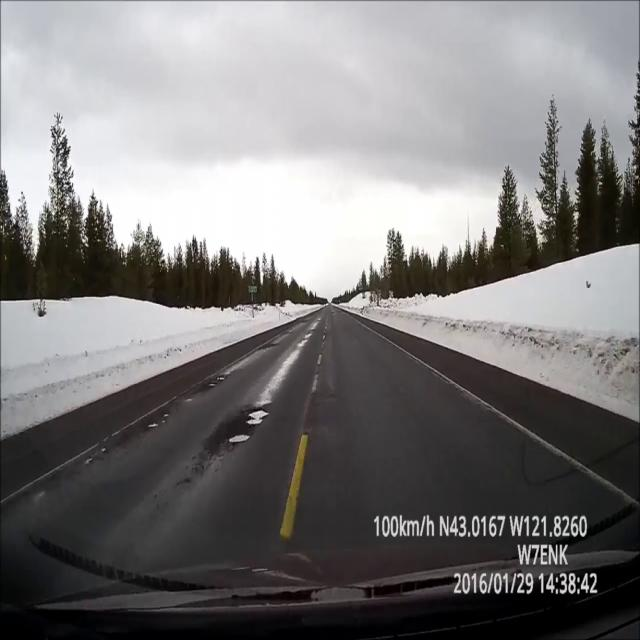Pothole: (245, 408, 270, 429), (228, 433, 252, 442), (297, 339, 308, 346), (304, 333, 312, 338), (308, 329, 315, 332), (332, 312, 334, 314)
